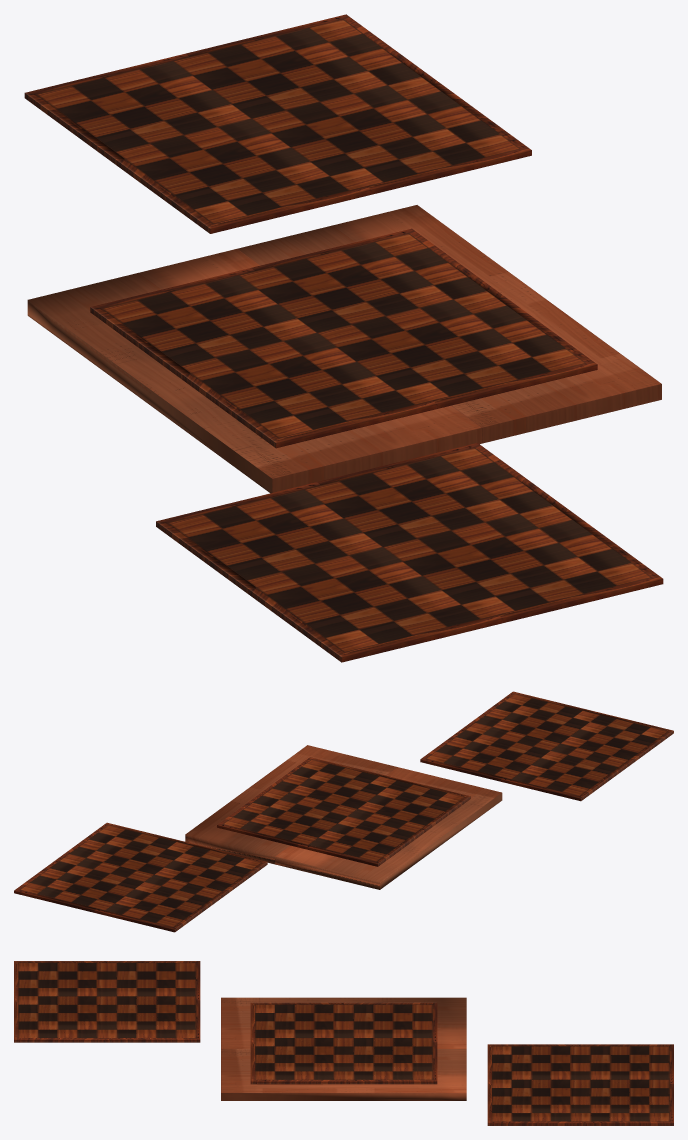
The model's file is shogiBoard.fbx.
3 views of the same model, one above another, from view 1: azimuth 30°, elevation 25°; view 2: azimuth 150°, elevation 25°; view 3: azimuth 270°, elevation 25° (orthographic). The views are drawn at different scales.
Parts seen in each view (by area): view 1: Standard.001; view 2: Standard.001; view 3: Standard.001.
Part boxes in pixels (box(x1,y1,x2,y2)): Standard.001: box(24, 14, 663, 662); Standard.001: box(14, 691, 673, 932); Standard.001: box(14, 961, 673, 1125).
Size of the model in its own units: 486 by 15.41 by 836.
